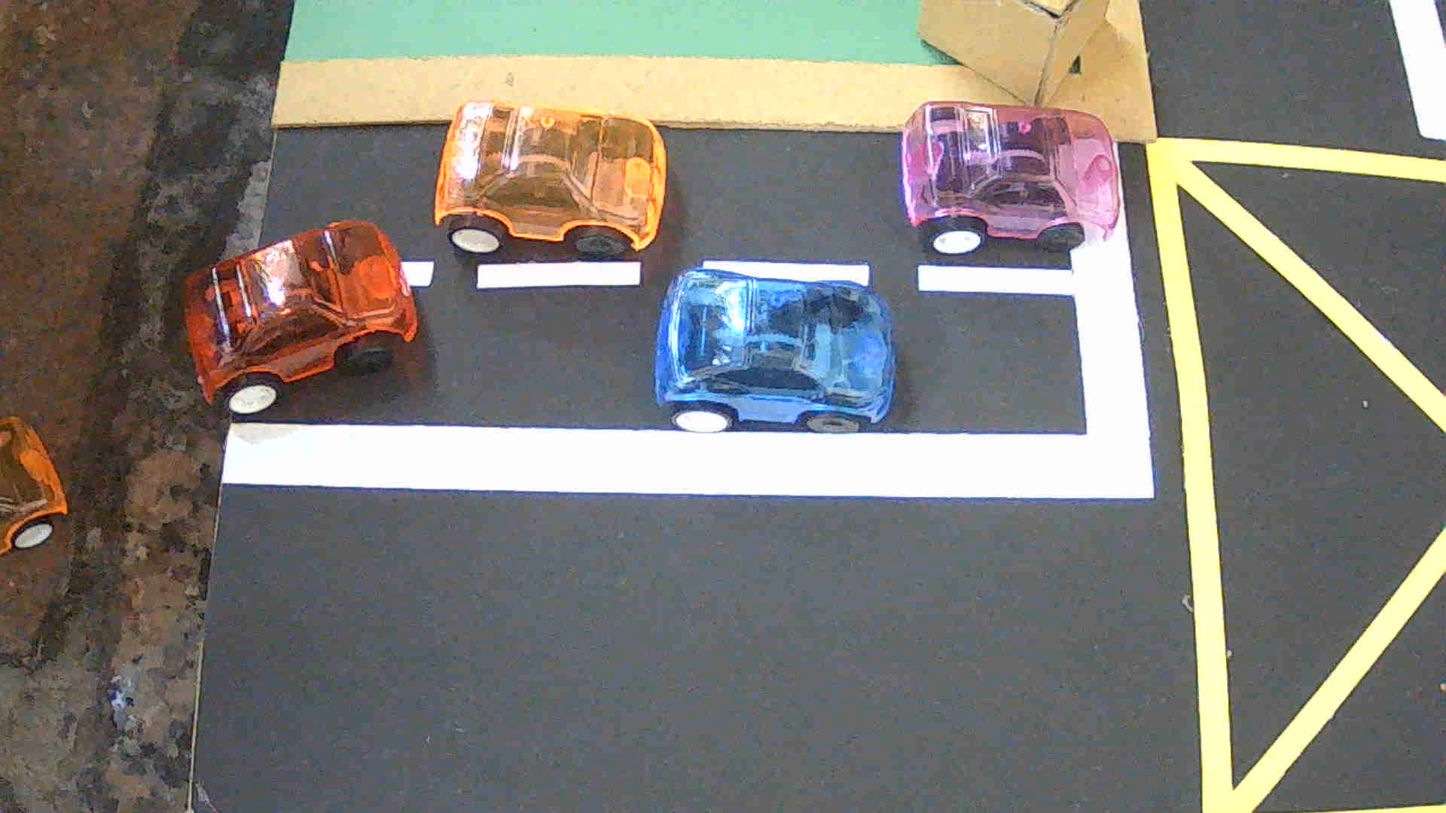Mobil biru: (654, 268, 895, 433)
Mobil merah: (185, 221, 417, 415)
Mobil orange: (433, 102, 667, 258)
Mobil ungu: (900, 101, 1121, 256)
